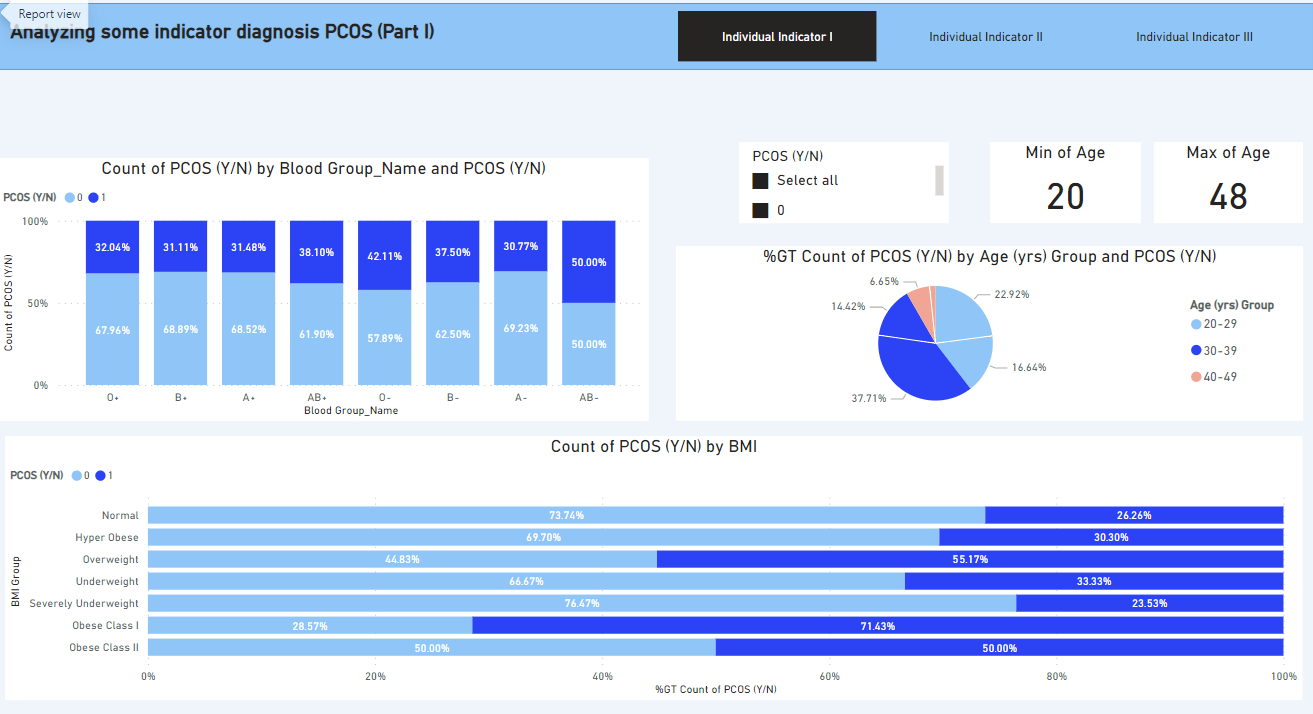

The page's visual inventory and layout, read from the dashboard file:
{"tool":"powerbi","page":{"name":"Individual Indicator I","canvas":[1280,720],"ordinal":0},"visuals":[{"type":"hundredPercentStackedColumnChart","fields":{"Category":["Table 3 (Full_new).Blood Group_Name"],"Y":["CountNonNull(Table 3 (Full_new).PCOS (Y/N))"],"Series":["Table 3 (Full_new).PCOS (Y/N)"]},"box":[0,160.5,633.2,255.8],"z":0},{"type":"card","title":"Min of Age","fields":{"Values":["Min(Table 3 (Full_new). Age (yrs))"]},"box":[964.9,144.9,146.9,78.8],"z":1000},{"type":"card","title":"Max of Age","fields":{"Values":["Max(Table 3 (Full_new). Age (yrs))"]},"box":[1124.4,144.9,144.9,78.8],"z":2000},{"type":"pieChart","fields":{"Category":["Table 3 (Full_new).Age (yrs) Group"],"Y":["Divide(CountNonNull(Table 3 (Full_new).PCOS (Y/N)), ScopedEval(CountNonNull(Table 3 (Full_new).PCOS (Y/N)), []))"],"Series":["Table 3 (Full_new).PCOS (Y/N)"]},"box":[659.5,246.1,609.8,170.2],"z":3000},{"type":"hundredPercentStackedBarChart","title":"Count of PCOS (Y/N) by BMI","fields":{"Category":["Table 3 (Full_new).BMI Group"],"Y":["CountNonNull(Table 3 (Full_new).PCOS (Y/N))"],"Series":["Table 3 (Full_new).PCOS (Y/N)"]},"box":[6.8,430.9,1262.5,256.8],"z":6000},{"type":"slicer","fields":{"Values":["Table 3 (Full_new).PCOS (Y/N)"]},"box":[720.7,144.9,204.3,78.8],"z":7000},{"type":"shape","box":[0,9.7,1280,65.2],"z":7001},{"type":"textbox","box":[6.8,20.4,470.8,44.7],"z":7002},{"type":"pageNavigator","box":[661.4,17.5,600.1,49.6],"z":7003}]}

Visuals, with their boxes on the page's 1280x720 design canvas (x1, y1, x2, y2). These are canvas units, not pixel positions in the 1313x714 screenshot, which may show the page scaled, cropped or inside an application window:
hundredPercentStackedColumnChart - Table 3 (Full_new).Blood Group_Name x CountNonNull(Table 3 (Full_new).PCOS (Y/N)): [x1=0, y1=160, x2=633, y2=416]
"Min of Age" card: [x1=965, y1=145, x2=1112, y2=224]
"Max of Age" card: [x1=1124, y1=145, x2=1269, y2=224]
pieChart - Table 3 (Full_new).Age (yrs) Group x Divide(CountNonNull(Table 3 (Full_new).PCOS (Y/N)), ScopedEval(CountNonNull(Table 3 (Full_new).PCOS (Y/N)), [])): [x1=660, y1=246, x2=1269, y2=416]
"Count of PCOS (Y/N) by BMI" hundredPercentStackedBarChart: [x1=7, y1=431, x2=1269, y2=688]
slicer - Table 3 (Full_new).PCOS (Y/N): [x1=721, y1=145, x2=925, y2=224]
shape: [x1=0, y1=10, x2=1280, y2=75]
textbox: [x1=7, y1=20, x2=478, y2=65]
pageNavigator: [x1=661, y1=18, x2=1262, y2=67]
